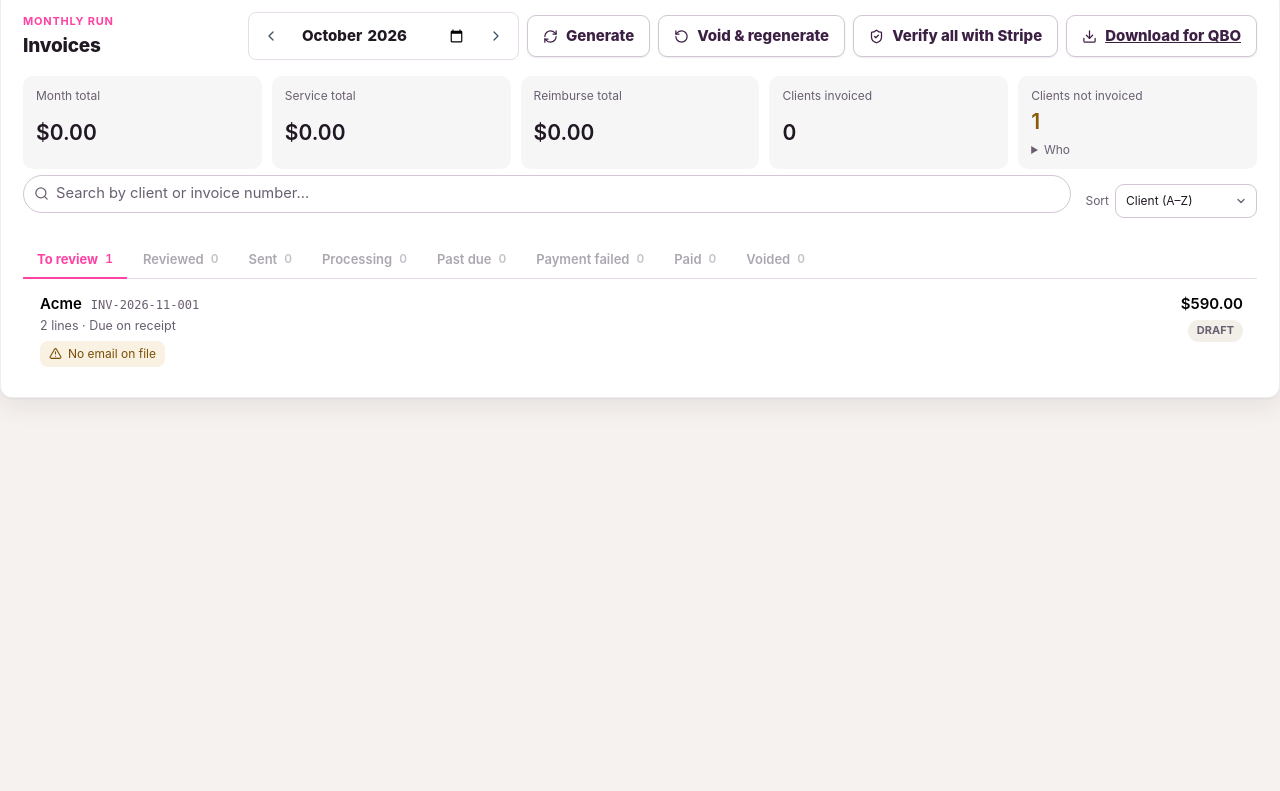
Test case: InvoiceMonthRun — confirming the covered dates › explains a resumed pause differently from a skipped cycle
The width and height of the screenshot is (1280, 791).
Click the text "INV-2026-11-001": (145, 306) [91, 297, 199, 315]
(page scrolled)
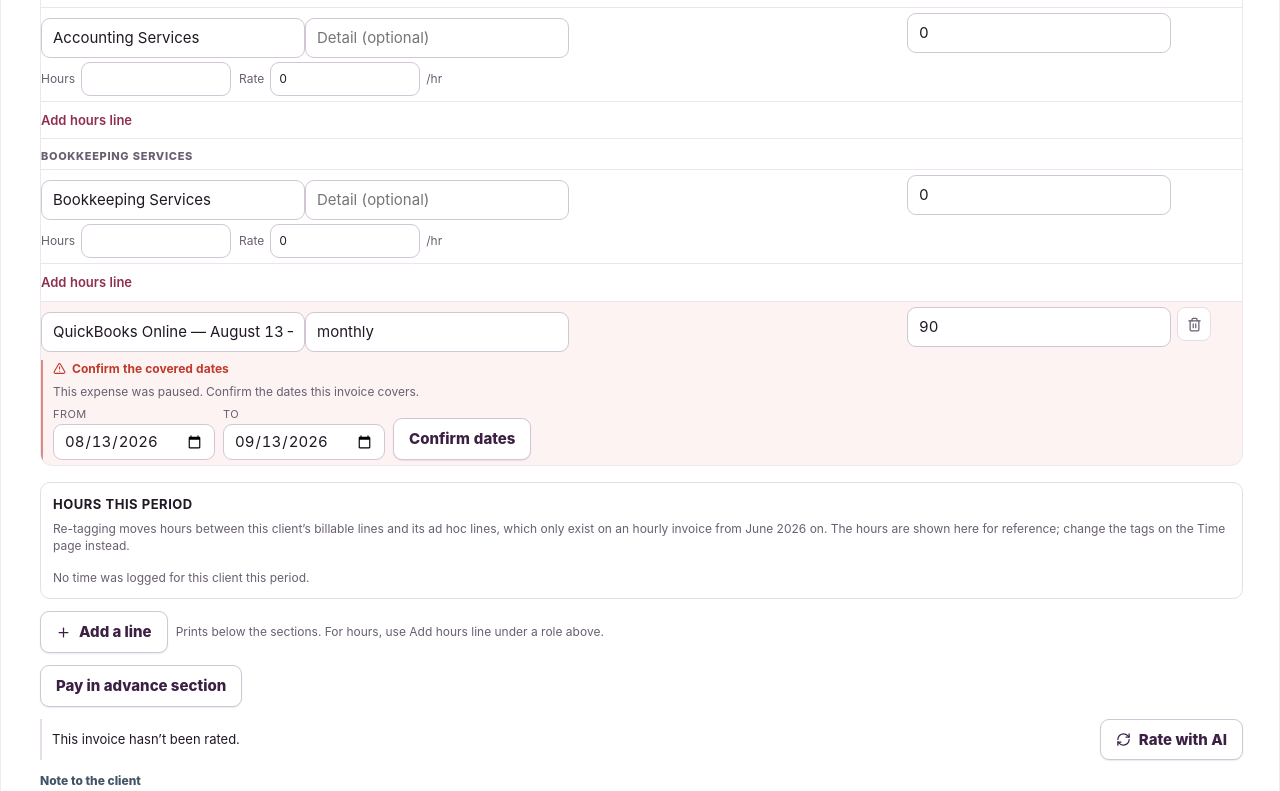
Expected: the text "This expense was paused. Confirm the dates this invoice covers." is shown, [53, 384, 419, 399]
